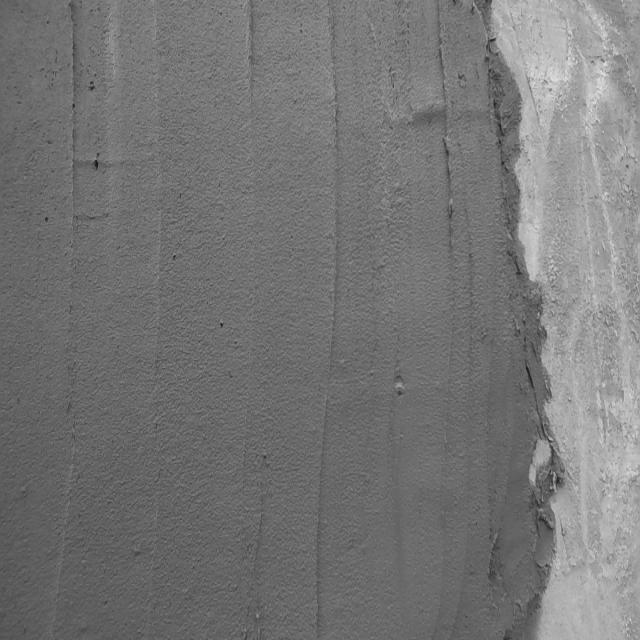trowels marks: (314, 0, 342, 640), (61, 0, 79, 293), (246, 0, 256, 108)
